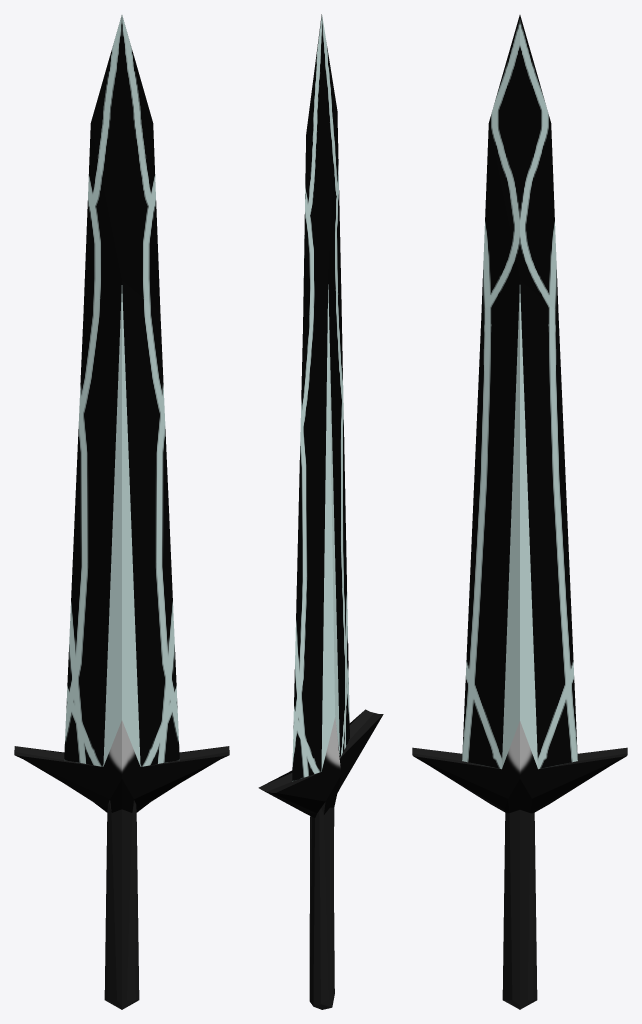
Rendered from SwordNewTextures.fbx.
3 renders of one model, left to right at view 1: azimuth 90°, elevation 25°; view 2: azimuth 150°, elevation 25°; view 3: azimuth 270°, elevation 25°, orthographic.
Visible parts, largest first — view 1: Cube; view 2: Cube; view 3: Cube.
Part boxes in pixels (x1,y1,x2,y2): Cube: (14, 15, 229, 1009); Cube: (258, 14, 383, 1009); Cube: (412, 15, 627, 1009).
Size of the model in its own units: 4.13 by 103 by 20.1.
Materials: 1 (1 with a texture image).
